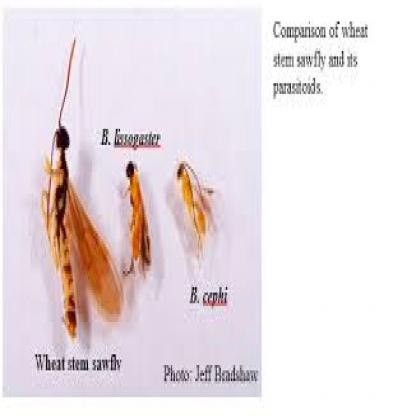sawfly: (37, 29, 127, 342), (108, 152, 154, 290), (170, 155, 222, 274)
